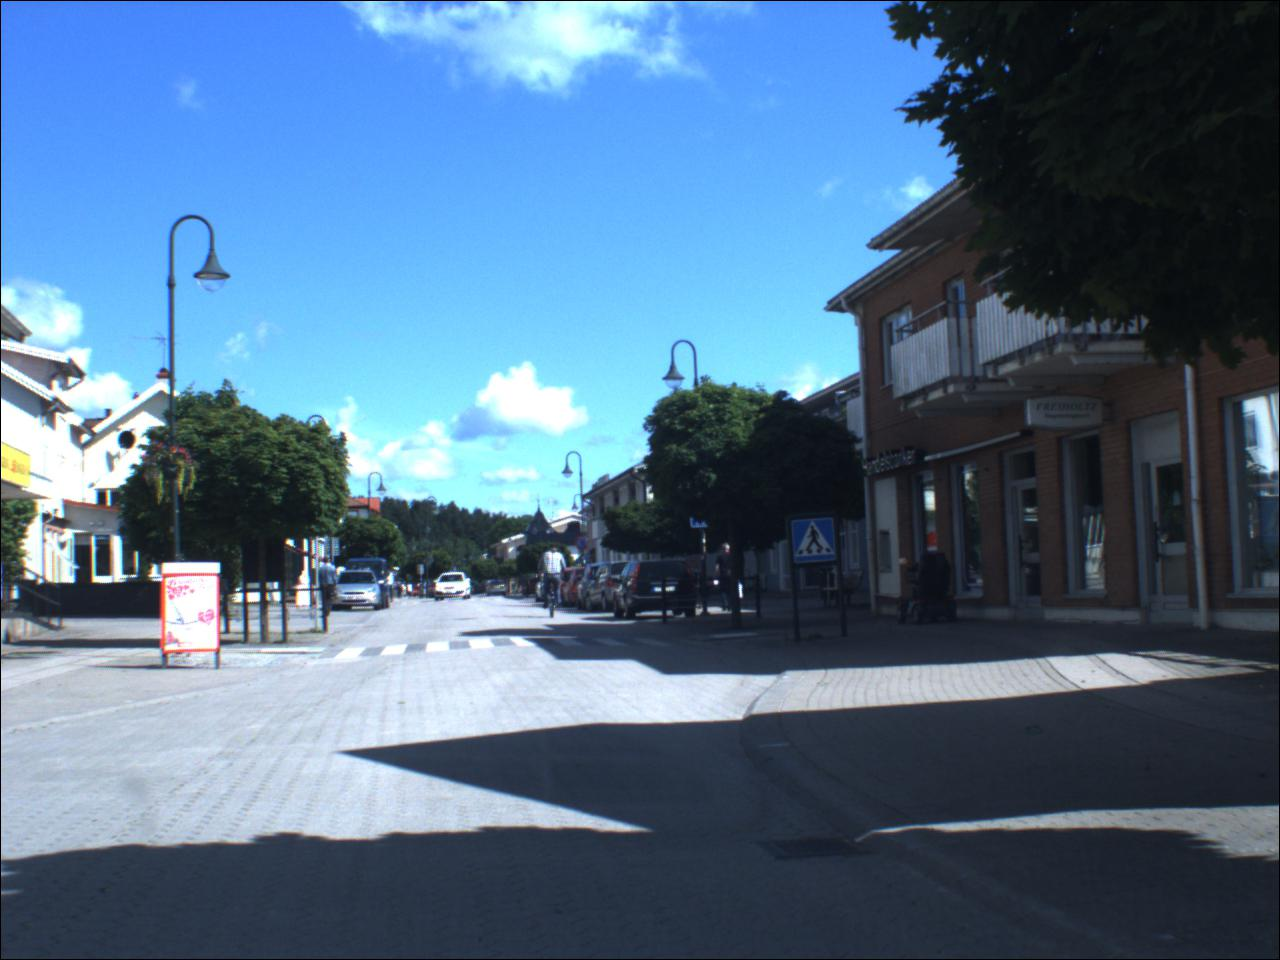NO_PARKING: (577, 537, 591, 553)
PEDESTRIAN_CROSSING: (791, 513, 840, 564)
